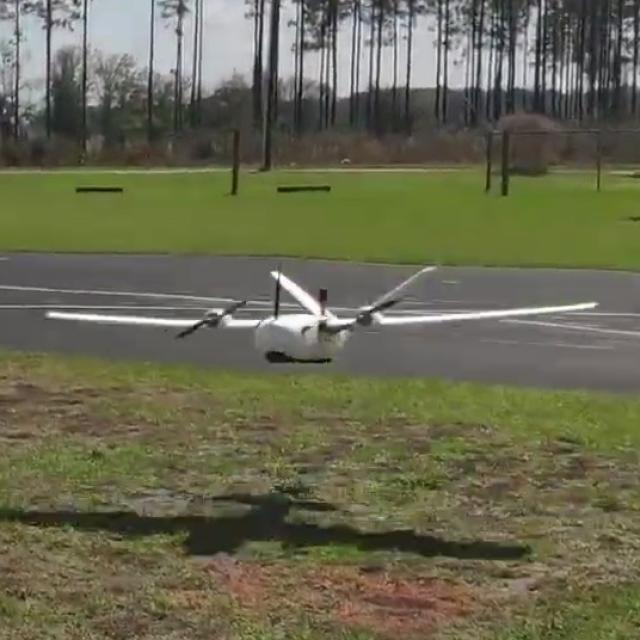iha: (37, 299, 604, 342)
